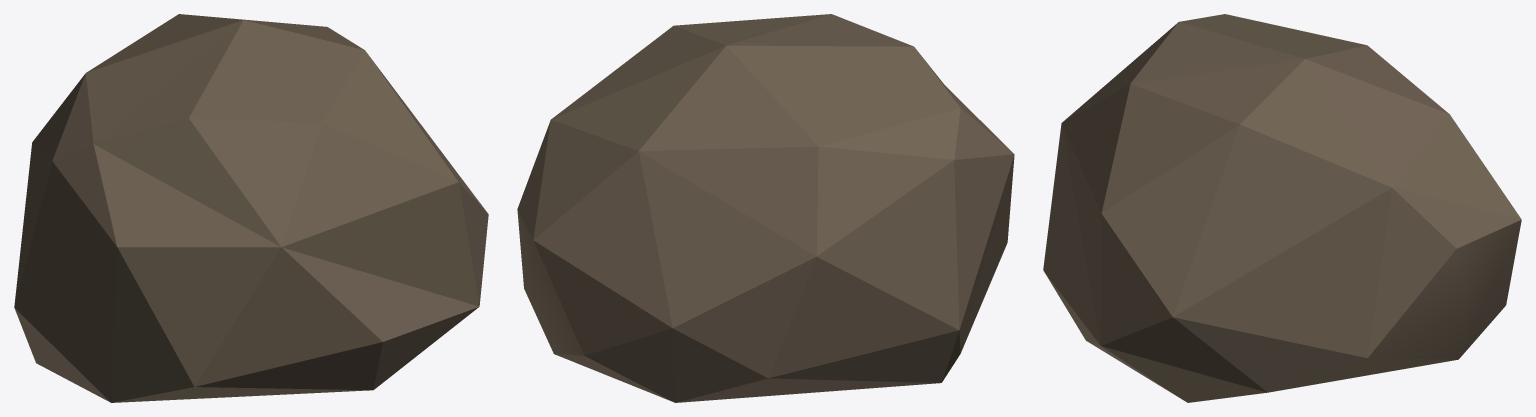
The model's file is SM_Env_Moss_Lumps_04.fbx.
3 views of the same model, side by side, from view 1: azimuth 30°, elevation 25°; view 2: azimuth 150°, elevation 25°; view 3: azimuth 270°, elevation 25° (orthographic). The views are drawn at different scales.
Parts seen in each view (by area): view 1: SM_Env_Moss_Lumps_04; view 2: SM_Env_Moss_Lumps_04; view 3: SM_Env_Moss_Lumps_04.
Boxes of the visible parts, x1=… form: SM_Env_Moss_Lumps_04: x1=14, y1=14, x2=488, y2=402; SM_Env_Moss_Lumps_04: x1=517, y1=14, x2=1014, y2=402; SM_Env_Moss_Lumps_04: x1=1043, y1=14, x2=1521, y2=402.
Size of the model in its own units: 90.29 by 71.44 by 96.88.
Materials: 1 (1 with a texture image).
